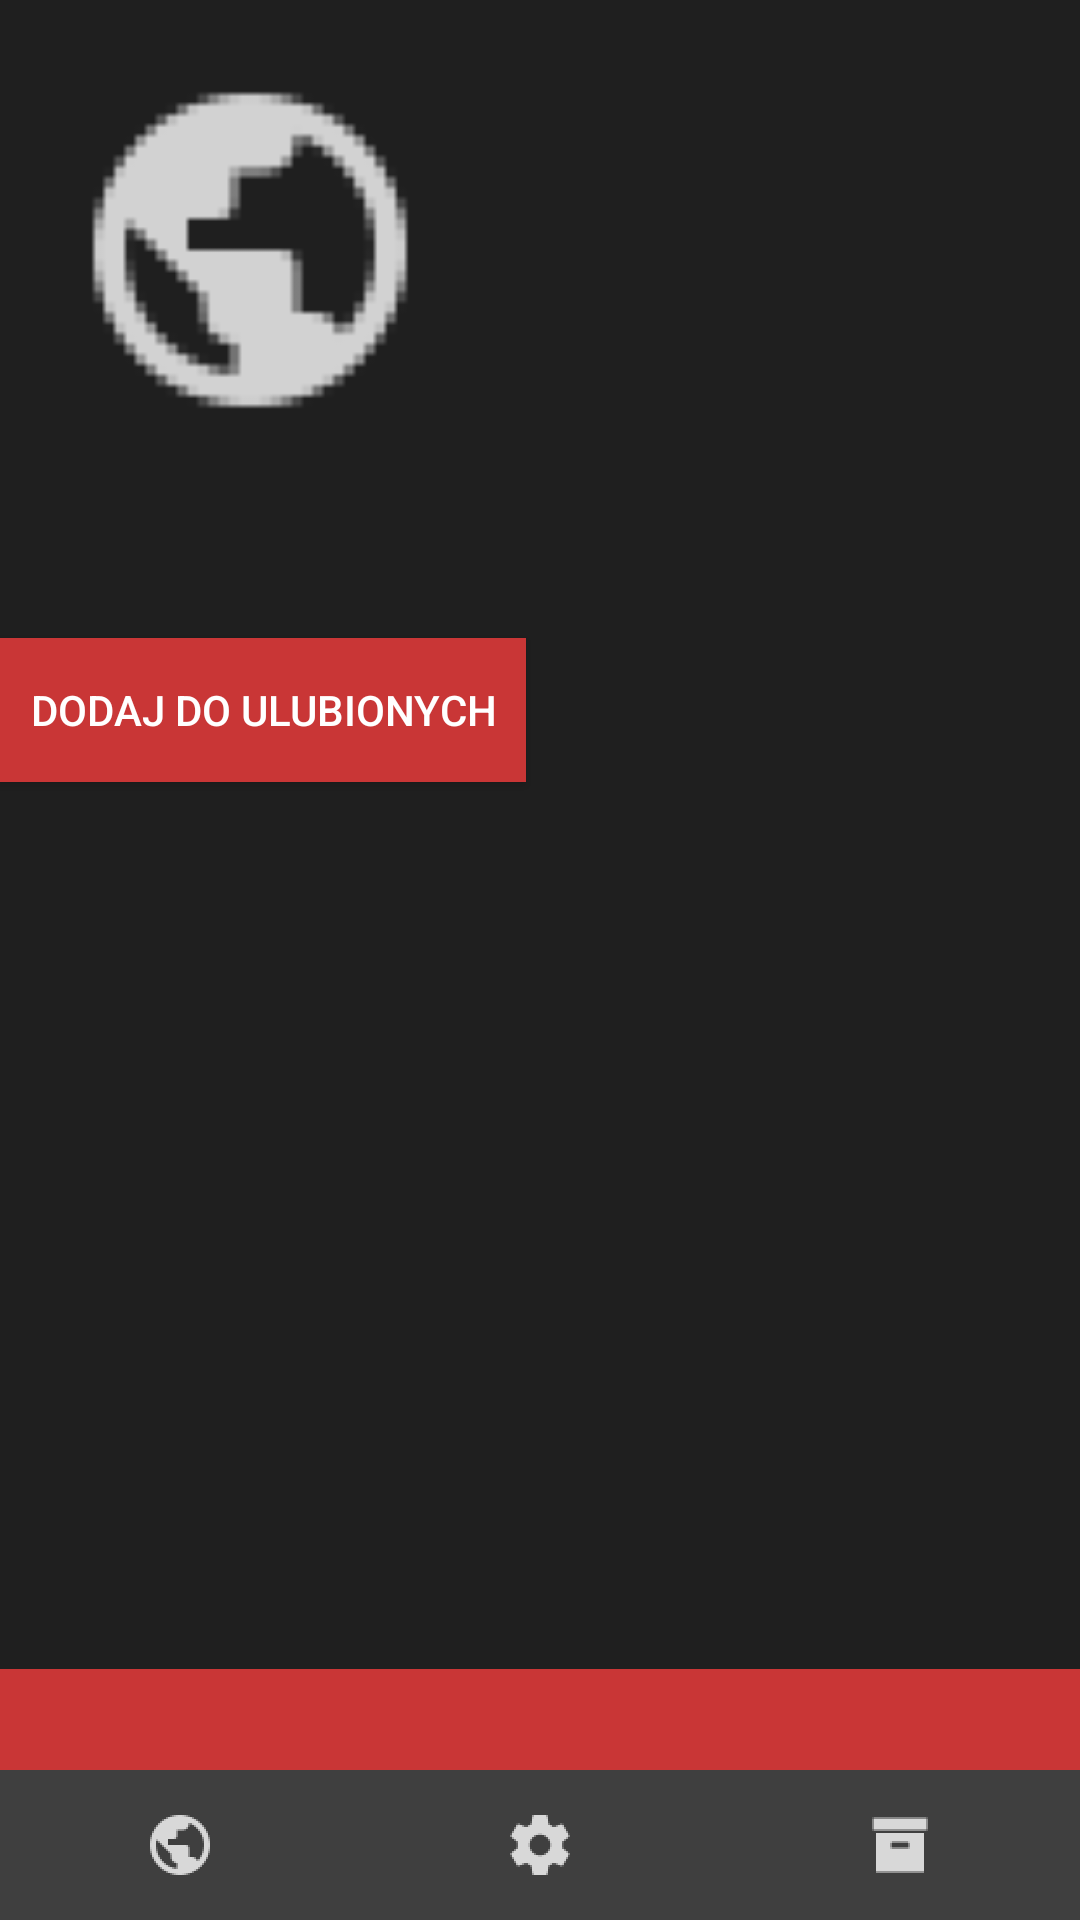

Named icons in this screenshot (1080 × 1920) and their centers, (x,y):
settings: (540,1845)
